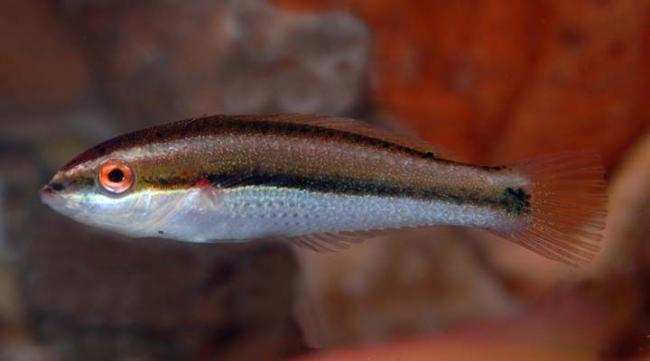fish: (39, 110, 611, 270)
